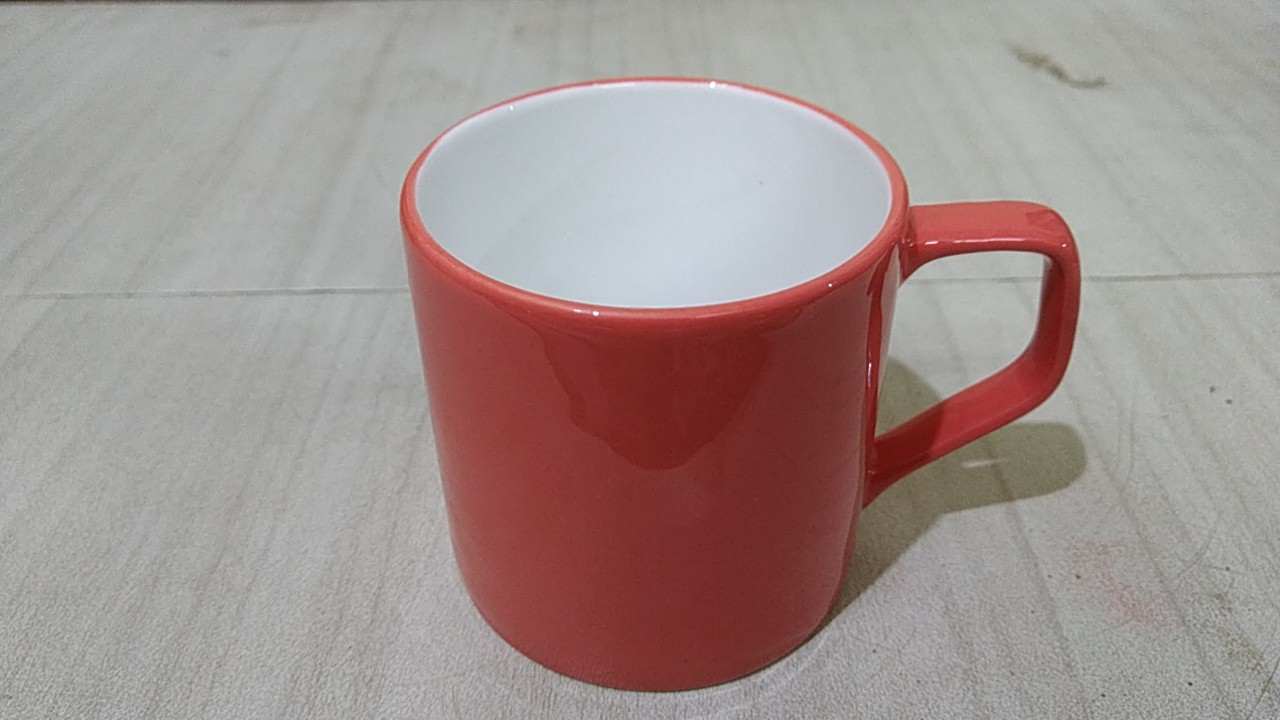cup: (372, 57, 1097, 702)
